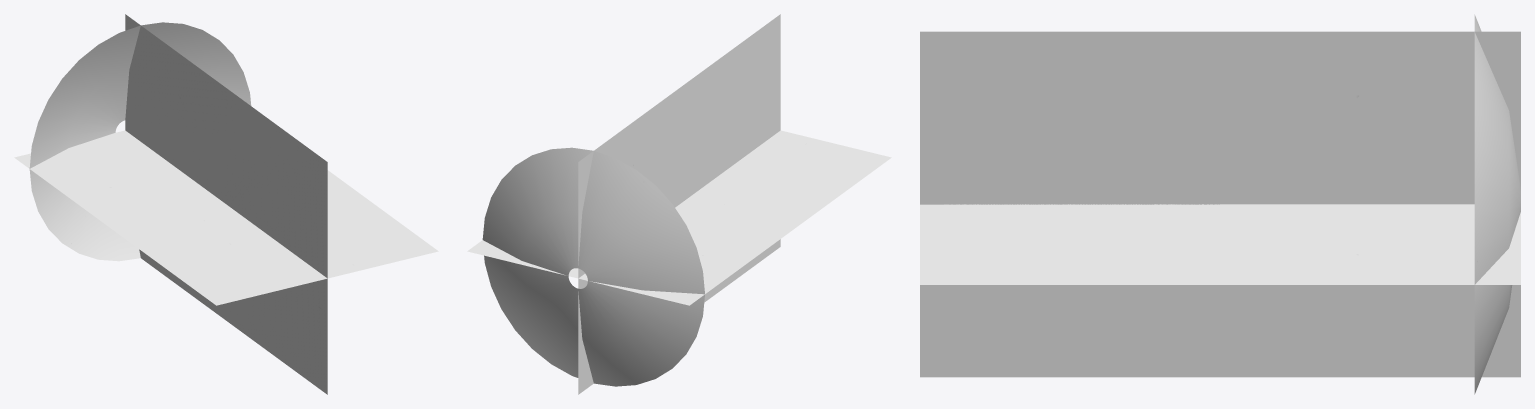
Rendered from Muzzle Flash.fbx.
3 views of the same model, side by side, from view 1: azimuth 30°, elevation 25°; view 2: azimuth 150°, elevation 25°; view 3: azimuth 270°, elevation 25° (orthographic). The views are drawn at different scales.
Parts seen in each view (by area): view 1: Muzzle Planes.003, Muzzle Cone; view 2: Muzzle Cone, Muzzle Planes.003; view 3: Muzzle Planes.003, Muzzle Cone.
Boxes of the visible parts, x1,y1,x2,y2 form: Muzzle Planes.003: (14,14,438,394); Muzzle Cone: (29,22,251,261); Muzzle Cone: (482,147,704,386); Muzzle Planes.003: (467,14,891,394); Muzzle Planes.003: (920,31,1520,377); Muzzle Cone: (1474,14,1520,394).
Size of the model in its own units: 200 by 200 by 315.
